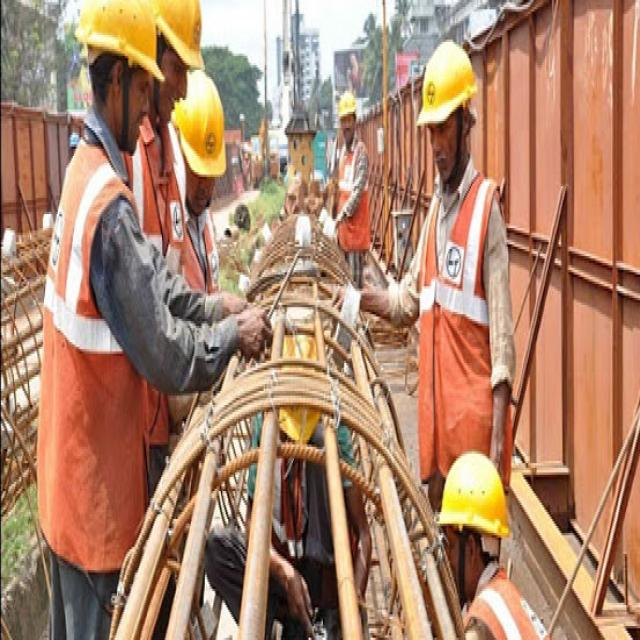Reflective-Jacket: (36, 142, 148, 561), (413, 167, 509, 454), (457, 575, 564, 640), (334, 140, 370, 253)
Safety-Helmet: (433, 440, 513, 547), (73, 0, 170, 81), (414, 35, 480, 133), (172, 75, 228, 182), (153, 0, 207, 72), (337, 86, 359, 121)
